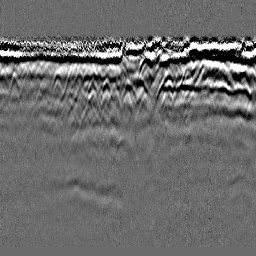cavity: (119, 77, 137, 107)
